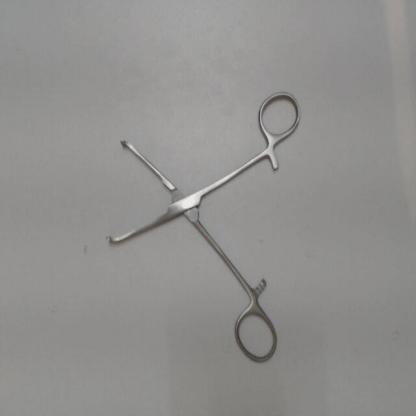Allis Tissue Forceps: (98, 84, 308, 373)
